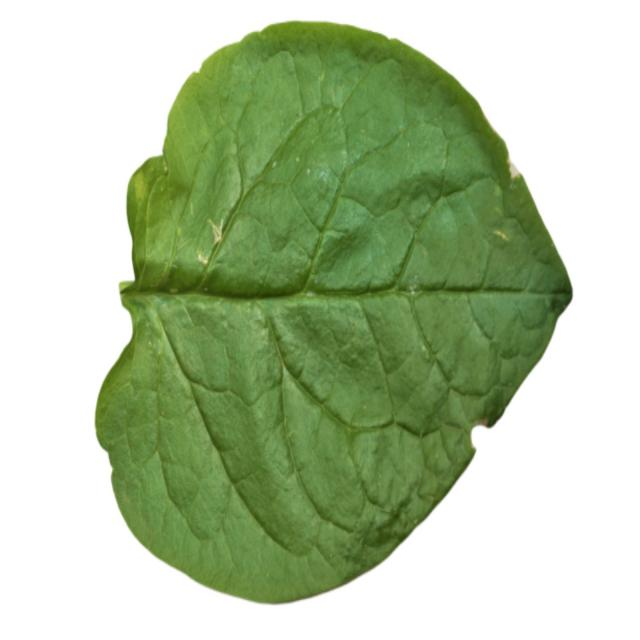Medicinal-Basale: (94, 15, 574, 602)
